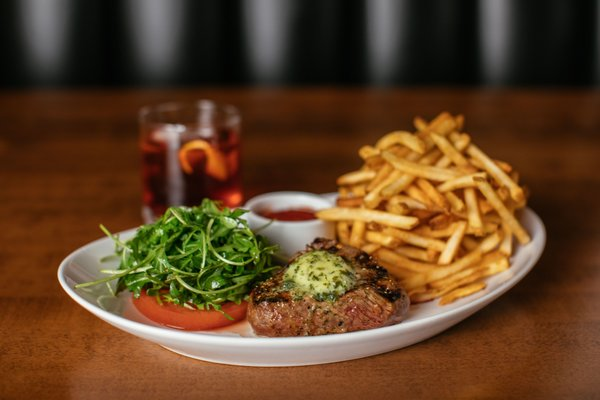pizza: (136, 99, 245, 223)
